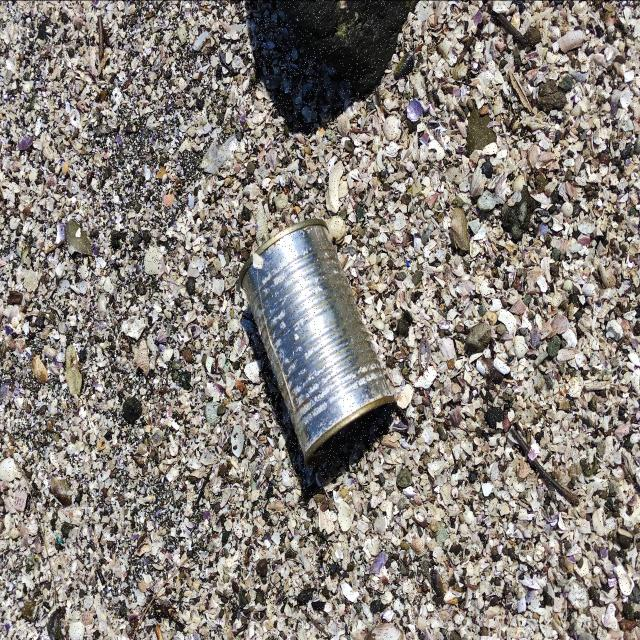metal_waste: (242, 221, 397, 469)
